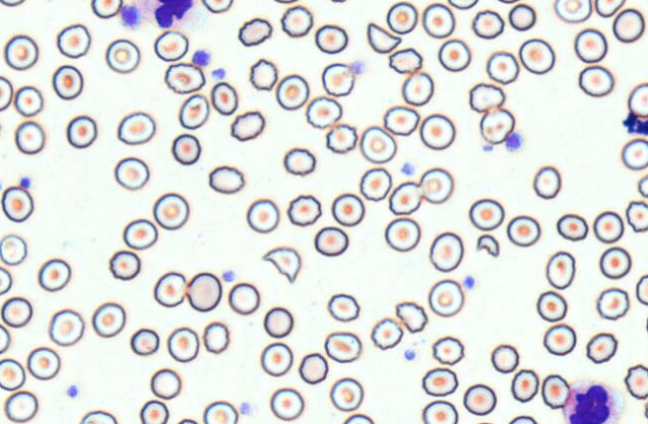GRAN: (561, 379, 624, 424), (136, 0, 198, 33)
PLT: (122, 9, 140, 30), (507, 133, 524, 153), (193, 50, 211, 68), (400, 162, 418, 176), (352, 59, 366, 75), (210, 67, 227, 80), (465, 273, 477, 291), (68, 383, 81, 399), (238, 402, 253, 415), (404, 349, 419, 362), (480, 141, 495, 153), (222, 269, 235, 281), (20, 176, 32, 187)
RBC: (186, 271, 222, 312), (359, 125, 397, 163), (152, 192, 189, 230), (428, 278, 464, 317), (429, 231, 463, 272), (479, 106, 515, 144), (48, 308, 84, 346), (384, 216, 421, 252), (419, 113, 455, 150), (518, 38, 555, 74), (164, 62, 205, 94), (117, 111, 155, 145), (418, 167, 453, 203), (91, 301, 126, 337), (3, 34, 38, 70), (305, 95, 342, 129), (275, 73, 309, 110), (56, 23, 91, 58), (105, 38, 140, 73), (573, 27, 607, 63), (388, 180, 422, 215), (37, 257, 71, 292), (114, 156, 149, 190), (153, 271, 186, 307), (166, 326, 199, 362), (422, 2, 455, 38), (468, 198, 504, 231), (383, 104, 420, 136), (1, 185, 33, 222), (324, 331, 361, 363), (545, 250, 575, 289), (321, 62, 355, 96), (329, 377, 363, 411), (331, 192, 365, 226), (485, 50, 519, 84), (437, 38, 471, 72), (26, 346, 60, 380), (401, 71, 434, 106), (269, 387, 304, 420), (612, 8, 645, 43), (246, 198, 279, 233), (286, 194, 322, 226), (122, 218, 158, 250), (51, 64, 83, 100), (578, 65, 614, 97), (359, 167, 392, 201), (260, 342, 293, 376), (506, 214, 540, 247), (3, 390, 38, 422), (153, 30, 188, 62), (178, 93, 209, 129), (208, 164, 245, 194), (370, 317, 403, 350), (463, 383, 496, 416), (280, 4, 313, 37), (227, 282, 260, 315), (596, 287, 629, 320), (230, 110, 265, 141), (313, 225, 348, 256), (421, 367, 458, 396), (543, 323, 576, 355), (599, 246, 631, 279), (14, 120, 45, 154), (66, 114, 97, 148), (541, 373, 570, 409), (386, 1, 417, 34), (593, 210, 624, 243), (314, 24, 348, 54), (237, 17, 272, 46), (325, 122, 357, 153), (150, 367, 181, 399), (0, 296, 32, 327), (536, 290, 567, 322), (585, 332, 617, 363), (108, 249, 140, 280), (431, 335, 464, 365), (471, 9, 504, 39), (510, 368, 539, 402), (532, 165, 561, 199), (298, 352, 328, 384), (263, 306, 293, 338), (171, 133, 201, 165), (13, 85, 43, 117), (283, 147, 316, 176), (210, 81, 238, 115), (249, 58, 278, 90), (327, 293, 359, 322), (553, 0, 592, 23), (556, 213, 588, 241), (421, 399, 458, 423), (490, 343, 519, 373), (0, 233, 27, 265), (202, 321, 229, 353), (621, 137, 647, 170), (624, 364, 648, 399), (202, 400, 238, 423), (0, 358, 25, 391), (130, 327, 159, 355), (508, 3, 536, 31), (139, 399, 169, 423), (625, 200, 647, 232), (627, 82, 647, 117), (91, 0, 122, 18), (594, 0, 626, 17), (79, 409, 117, 423), (0, 75, 13, 111), (201, 0, 233, 13), (635, 274, 647, 305), (0, 266, 12, 294), (342, 413, 374, 423), (0, 323, 10, 353), (447, 0, 478, 9), (637, 173, 647, 198), (508, 415, 537, 423), (0, 0, 25, 7), (177, 417, 198, 423), (272, 0, 300, 4), (643, 399, 648, 420), (0, 117, 4, 141), (496, 0, 520, 4), (327, 0, 351, 3), (474, 421, 495, 424), (645, 314, 648, 334)
Schistocyte: (263, 248, 303, 284), (468, 79, 506, 113), (367, 21, 404, 55), (396, 303, 428, 335), (389, 49, 423, 75), (475, 234, 501, 258)
